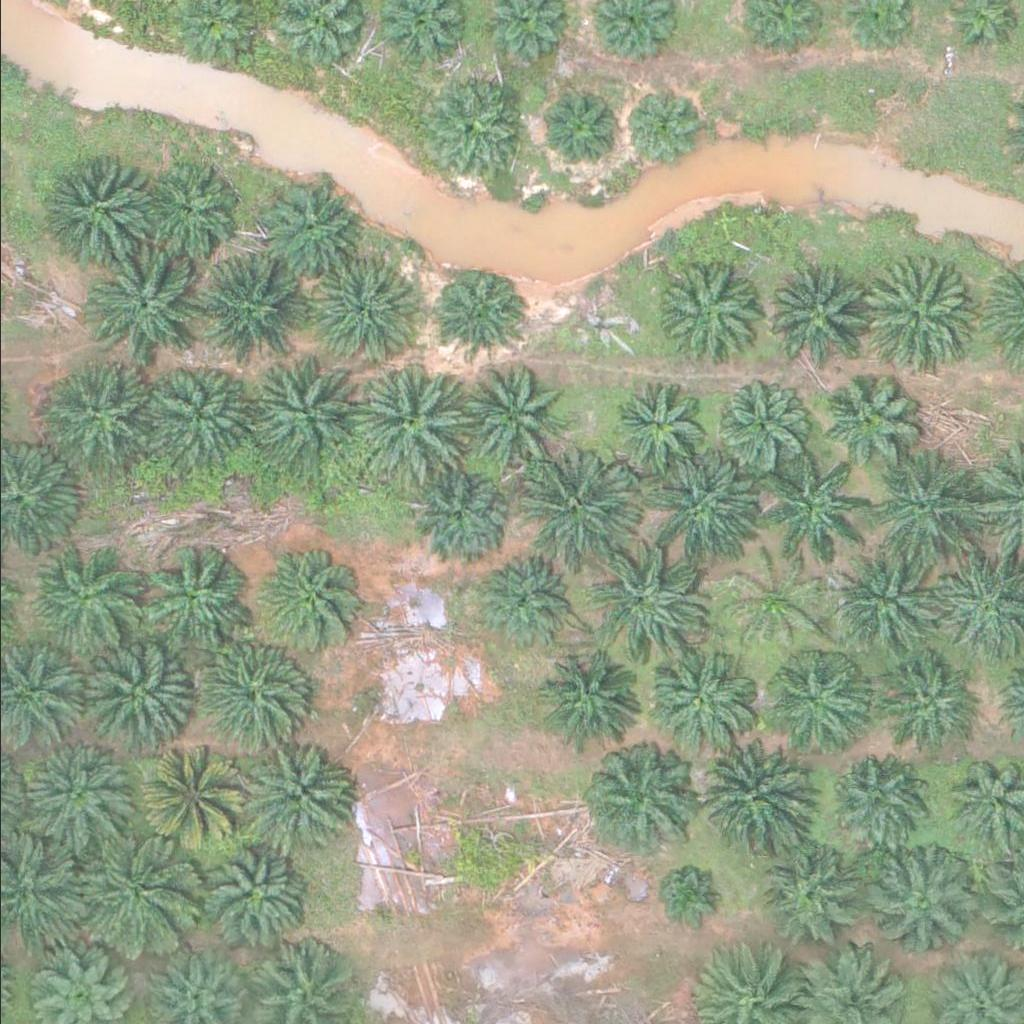Kelapa_Sawit: (146, 364, 260, 477), (518, 452, 632, 565), (241, 355, 355, 468), (305, 253, 419, 366), (81, 836, 194, 949), (74, 639, 187, 752), (132, 541, 245, 654), (35, 152, 148, 265), (193, 835, 306, 948), (863, 840, 976, 953), (694, 739, 807, 852), (645, 453, 758, 566), (864, 255, 977, 368), (26, 544, 140, 656), (643, 647, 757, 759), (819, 549, 933, 661), (254, 542, 368, 654), (197, 252, 311, 364), (754, 262, 868, 374), (44, 356, 157, 468), (87, 244, 200, 356), (236, 738, 349, 850), (192, 628, 305, 740), (578, 741, 691, 853), (589, 545, 702, 657), (758, 450, 871, 562), (873, 454, 986, 566), (465, 366, 578, 478), (351, 370, 464, 482), (27, 737, 128, 837), (137, 159, 238, 259), (756, 849, 857, 949), (824, 746, 925, 846), (728, 555, 829, 655), (410, 462, 511, 562), (710, 372, 811, 472), (614, 376, 715, 476), (658, 265, 759, 365), (425, 78, 526, 178), (257, 178, 358, 278), (134, 743, 234, 843), (538, 648, 638, 748), (867, 652, 967, 752), (766, 645, 866, 745), (465, 551, 565, 651), (818, 369, 918, 469), (437, 266, 525, 353), (535, 85, 623, 172), (620, 88, 696, 163), (653, 859, 728, 934)
